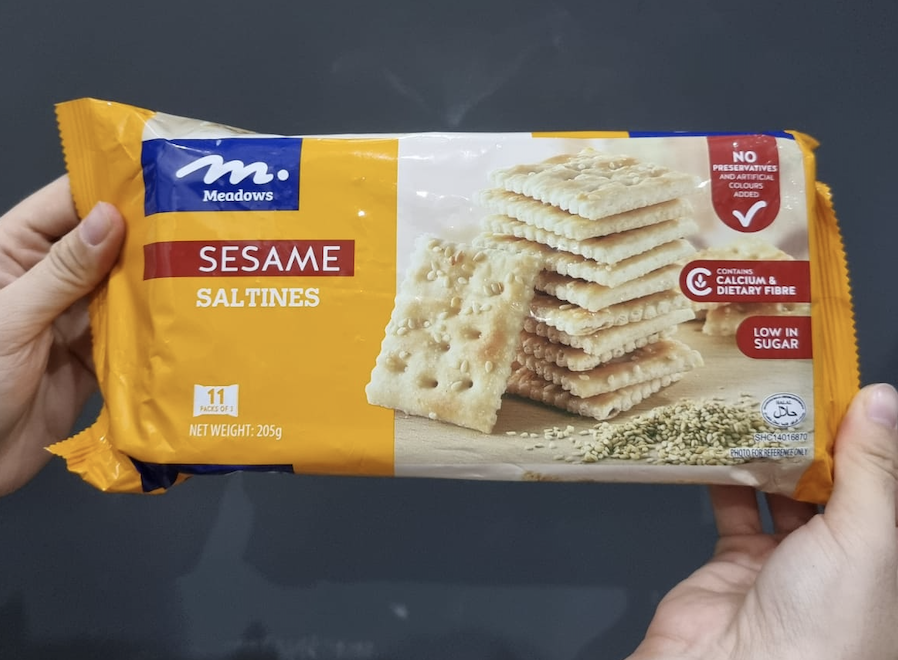Halal: (771, 401, 799, 418)
